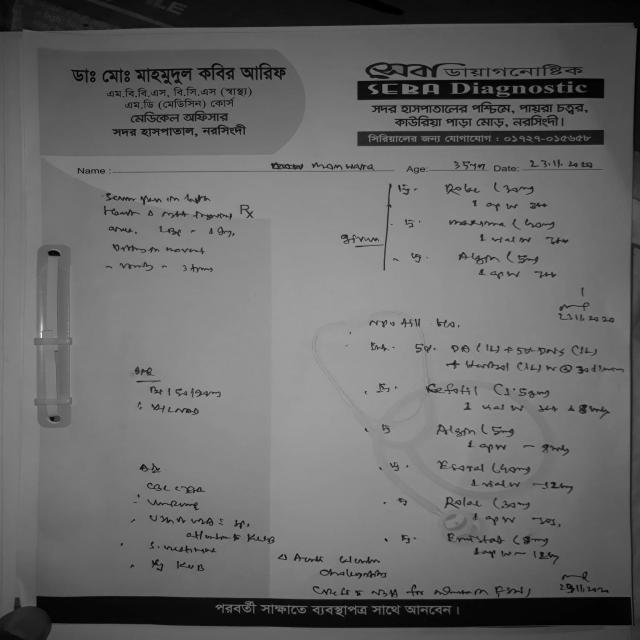medicine: (452, 240, 504, 268), (442, 214, 509, 234), (442, 530, 510, 547), (422, 380, 486, 397), (434, 456, 488, 476), (439, 490, 487, 512), (440, 181, 496, 198), (435, 419, 480, 439)
